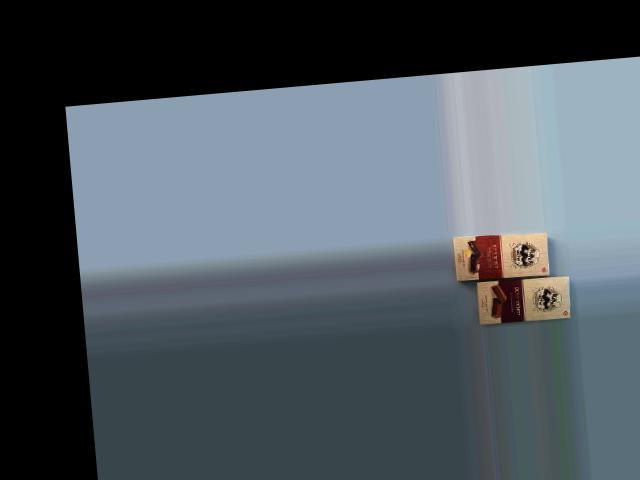chocolate: (450, 227, 555, 292)
